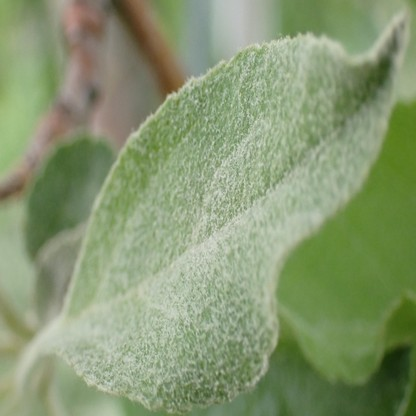powdery_mildew: (40, 8, 407, 414)
